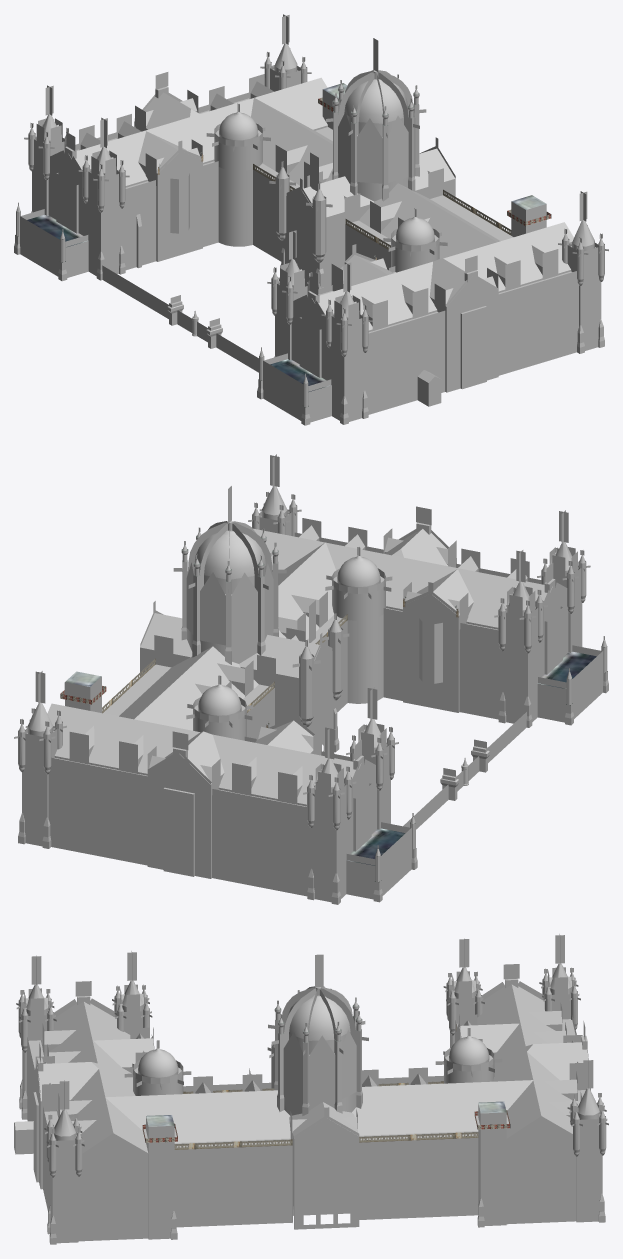
Rendered from CST_mumbai.dae.
The picture shows the model from 3 angles, top to bottom: view 1: azimuth 30°, elevation 25°; view 2: azimuth 150°, elevation 25°; view 3: azimuth 270°, elevation 25°; orthographic projection. The views are drawn at different scales.
Visible parts, largest first — view 1: group_10 (×4), group_25 (×4), Component_2 (×4), Component_6 (×3), Component_1 (×5), Component_7 (×6), Component_5 (×3), Component_4 (×3), group_7, group_20, Component_20 (×3), Component_27 (+6 smaller); view 2: group_25 (×4), group_10 (×4), Component_2 (×4), Component_6 (×3), Component_1 (×5), Component_4 (×4), Component_7 (×6), Component_5 (×3), group_22, group_5, Component_20 (×2), group_24 (+5 smaller); view 3: Component_2 (×4), group_10 (×4), group_25 (×2), Component_5 (×2), Component_6 (×3), Component_1 (×4), Component_20 (×3), group_32, group_17, group_9, group_24, Component_27 (+8 smaller).
Part boxes in pixels (left/top/right/bottom): group_10 (×4): left=291, top=222, right=578, bottom=414; group_25 (×4): left=48, top=77, right=327, bottom=270; Component_2 (×4): left=251, top=98, right=513, bottom=267; Component_6 (×3): left=144, top=92, right=498, bottom=392; Component_1 (×5): left=214, top=112, right=439, bottom=272; Component_7 (×6): left=20, top=214, right=331, bottom=422; Component_5 (×3): left=282, top=148, right=455, bottom=287; Component_4 (×3): left=138, top=131, right=393, bottom=285; group_7: left=329, top=320, right=364, bottom=421; group_20: left=86, top=176, right=121, bottom=275; Component_20 (×3): left=338, top=129, right=408, bottom=183; Component_27: left=344, top=79, right=407, bottom=137; group_25 (×4): left=47, top=703, right=376, bottom=896; group_10 (×4): left=253, top=528, right=568, bottom=719; Component_2 (×4): left=103, top=542, right=347, bottom=738; Component_6 (×3): left=147, top=529, right=447, bottom=878; Component_1 (×5): left=193, top=556, right=385, bottom=740; Component_4 (×4): left=255, top=569, right=473, bottom=753; Component_7 (×6): left=346, top=651, right=603, bottom=899; Component_5 (×3): left=140, top=613, right=335, bottom=751; group_22: left=311, top=789, right=348, bottom=902; group_5: left=502, top=612, right=539, bottom=723; Component_20 (×2): left=200, top=593, right=257, bottom=645; group_24: left=22, top=734, right=57, bottom=846; Component_2 (×4): left=105, top=1080, right=533, bottom=1227; group_10 (×4): left=27, top=1001, right=148, bottom=1241; group_25 (×2): left=477, top=984, right=576, bottom=1224; Component_5 (×2): left=289, top=1102, right=359, bottom=1229; Component_6 (×3): left=33, top=1042, right=588, bottom=1189; Component_1 (×4): left=133, top=1036, right=494, bottom=1095; Component_20 (×3): left=283, top=1047, right=356, bottom=1102; group_32: left=478, top=1128, right=506, bottom=1225; group_17: left=146, top=1142, right=174, bottom=1239; group_9: left=50, top=1144, right=78, bottom=1243; group_24: left=576, top=1123, right=602, bottom=1222; Component_27: left=287, top=995, right=350, bottom=1054.
Size of the model in its own units: 3044 by 4376 by 1956.
